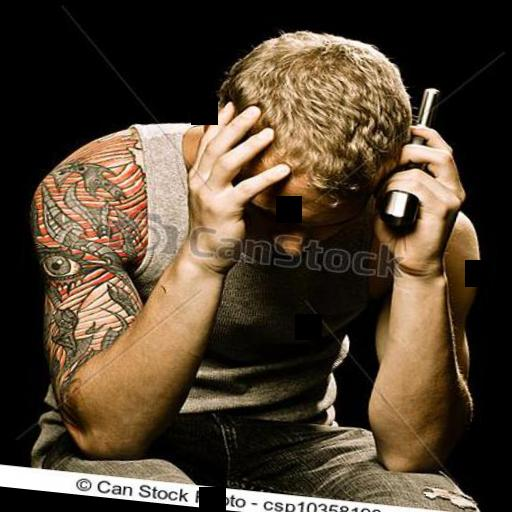Handgun: (372, 80, 444, 237)
